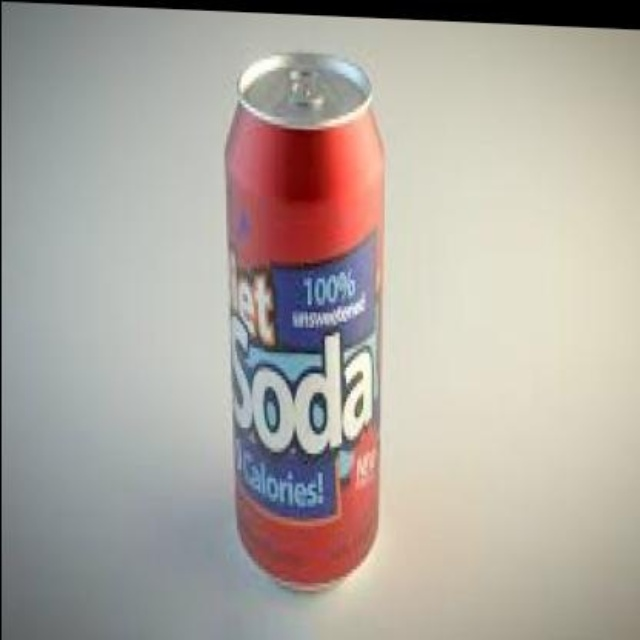trash: (226, 54, 382, 585)
